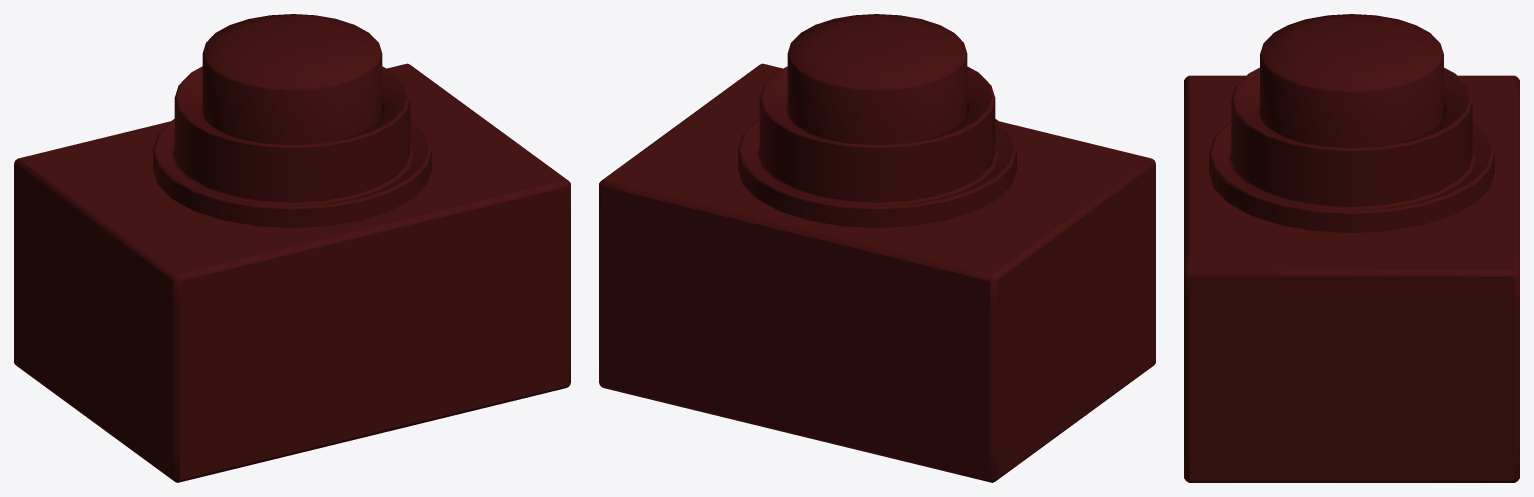
File: bouton_low.FBX
The picture shows the model from 3 angles, left to right: view 1: azimuth 30°, elevation 25°; view 2: azimuth 150°, elevation 25°; view 3: azimuth 270°, elevation 25°; orthographic projection. The views are drawn at different scales.
Parts seen in each view (by area): view 1: socle, port, bouton; view 2: socle, port, bouton; view 3: socle, port, bouton.
Boxes of the visible parts, x1,y1,x2,y2 form: socle: [14, 63, 570, 482]; port: [153, 66, 431, 228]; bouton: [202, 14, 382, 145]; socle: [599, 63, 1155, 482]; port: [738, 66, 1016, 228]; bouton: [787, 14, 967, 145]; socle: [1184, 75, 1519, 482]; port: [1209, 67, 1494, 232]; bouton: [1260, 14, 1443, 148].
Bounding box in the file's own units: 2.76 × 2.24 × 1.97.
